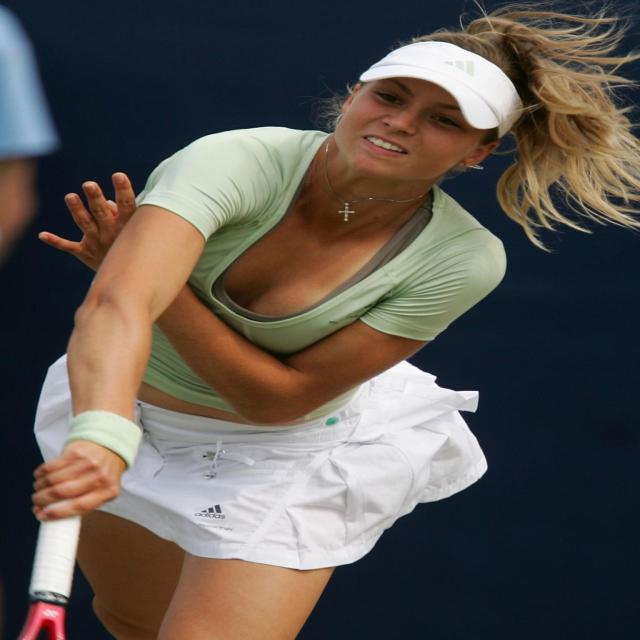Face: (339, 77, 489, 177)
